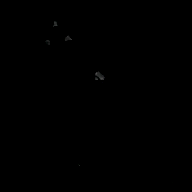v: (42, 17, 72, 45)
